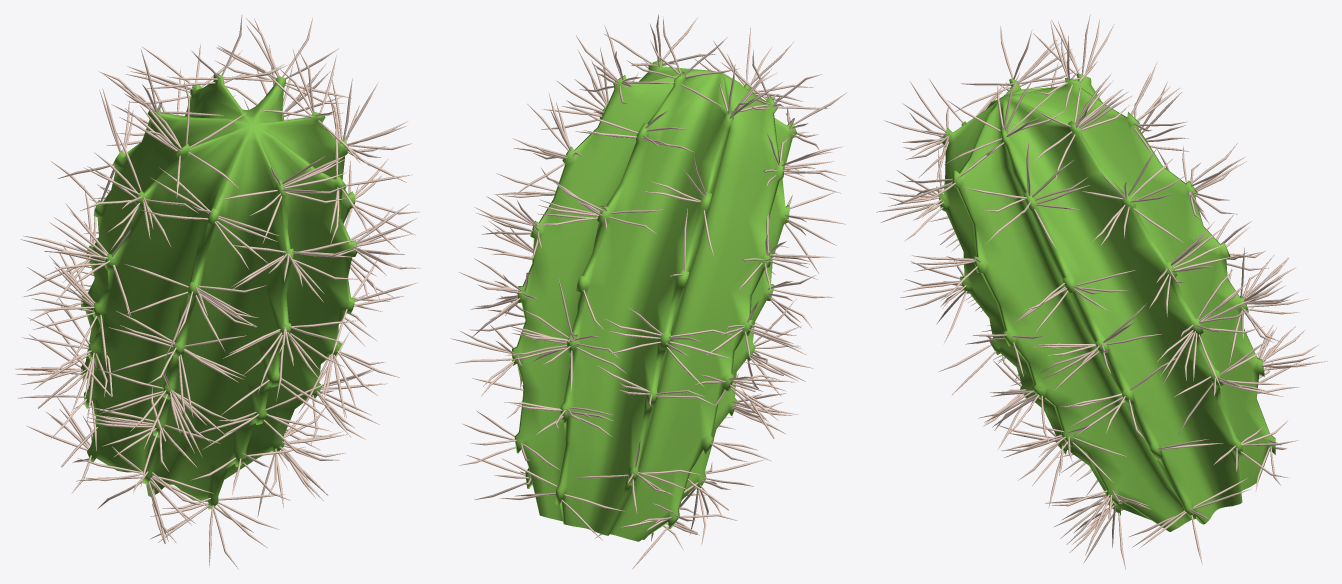
3 renders of one model, left to right at view 1: azimuth 30°, elevation 25°; view 2: azimuth 150°, elevation 25°; view 3: azimuth 270°, elevation 25°, orthographic. The views are drawn at different scales.
Visible parts, largest first — view 1: sansevieriaplant.010; view 2: sansevieriaplant.010; view 3: sansevieriaplant.010.
Part boxes in pixels (box(x1,y1,x2,y2)): sansevieriaplant.010: box(14, 14, 421, 569); sansevieriaplant.010: box(450, 14, 847, 569); sansevieriaplant.010: box(876, 14, 1327, 569).
Bounding box in the file's own units: 0.8553 × 1.27 × 0.9924.
